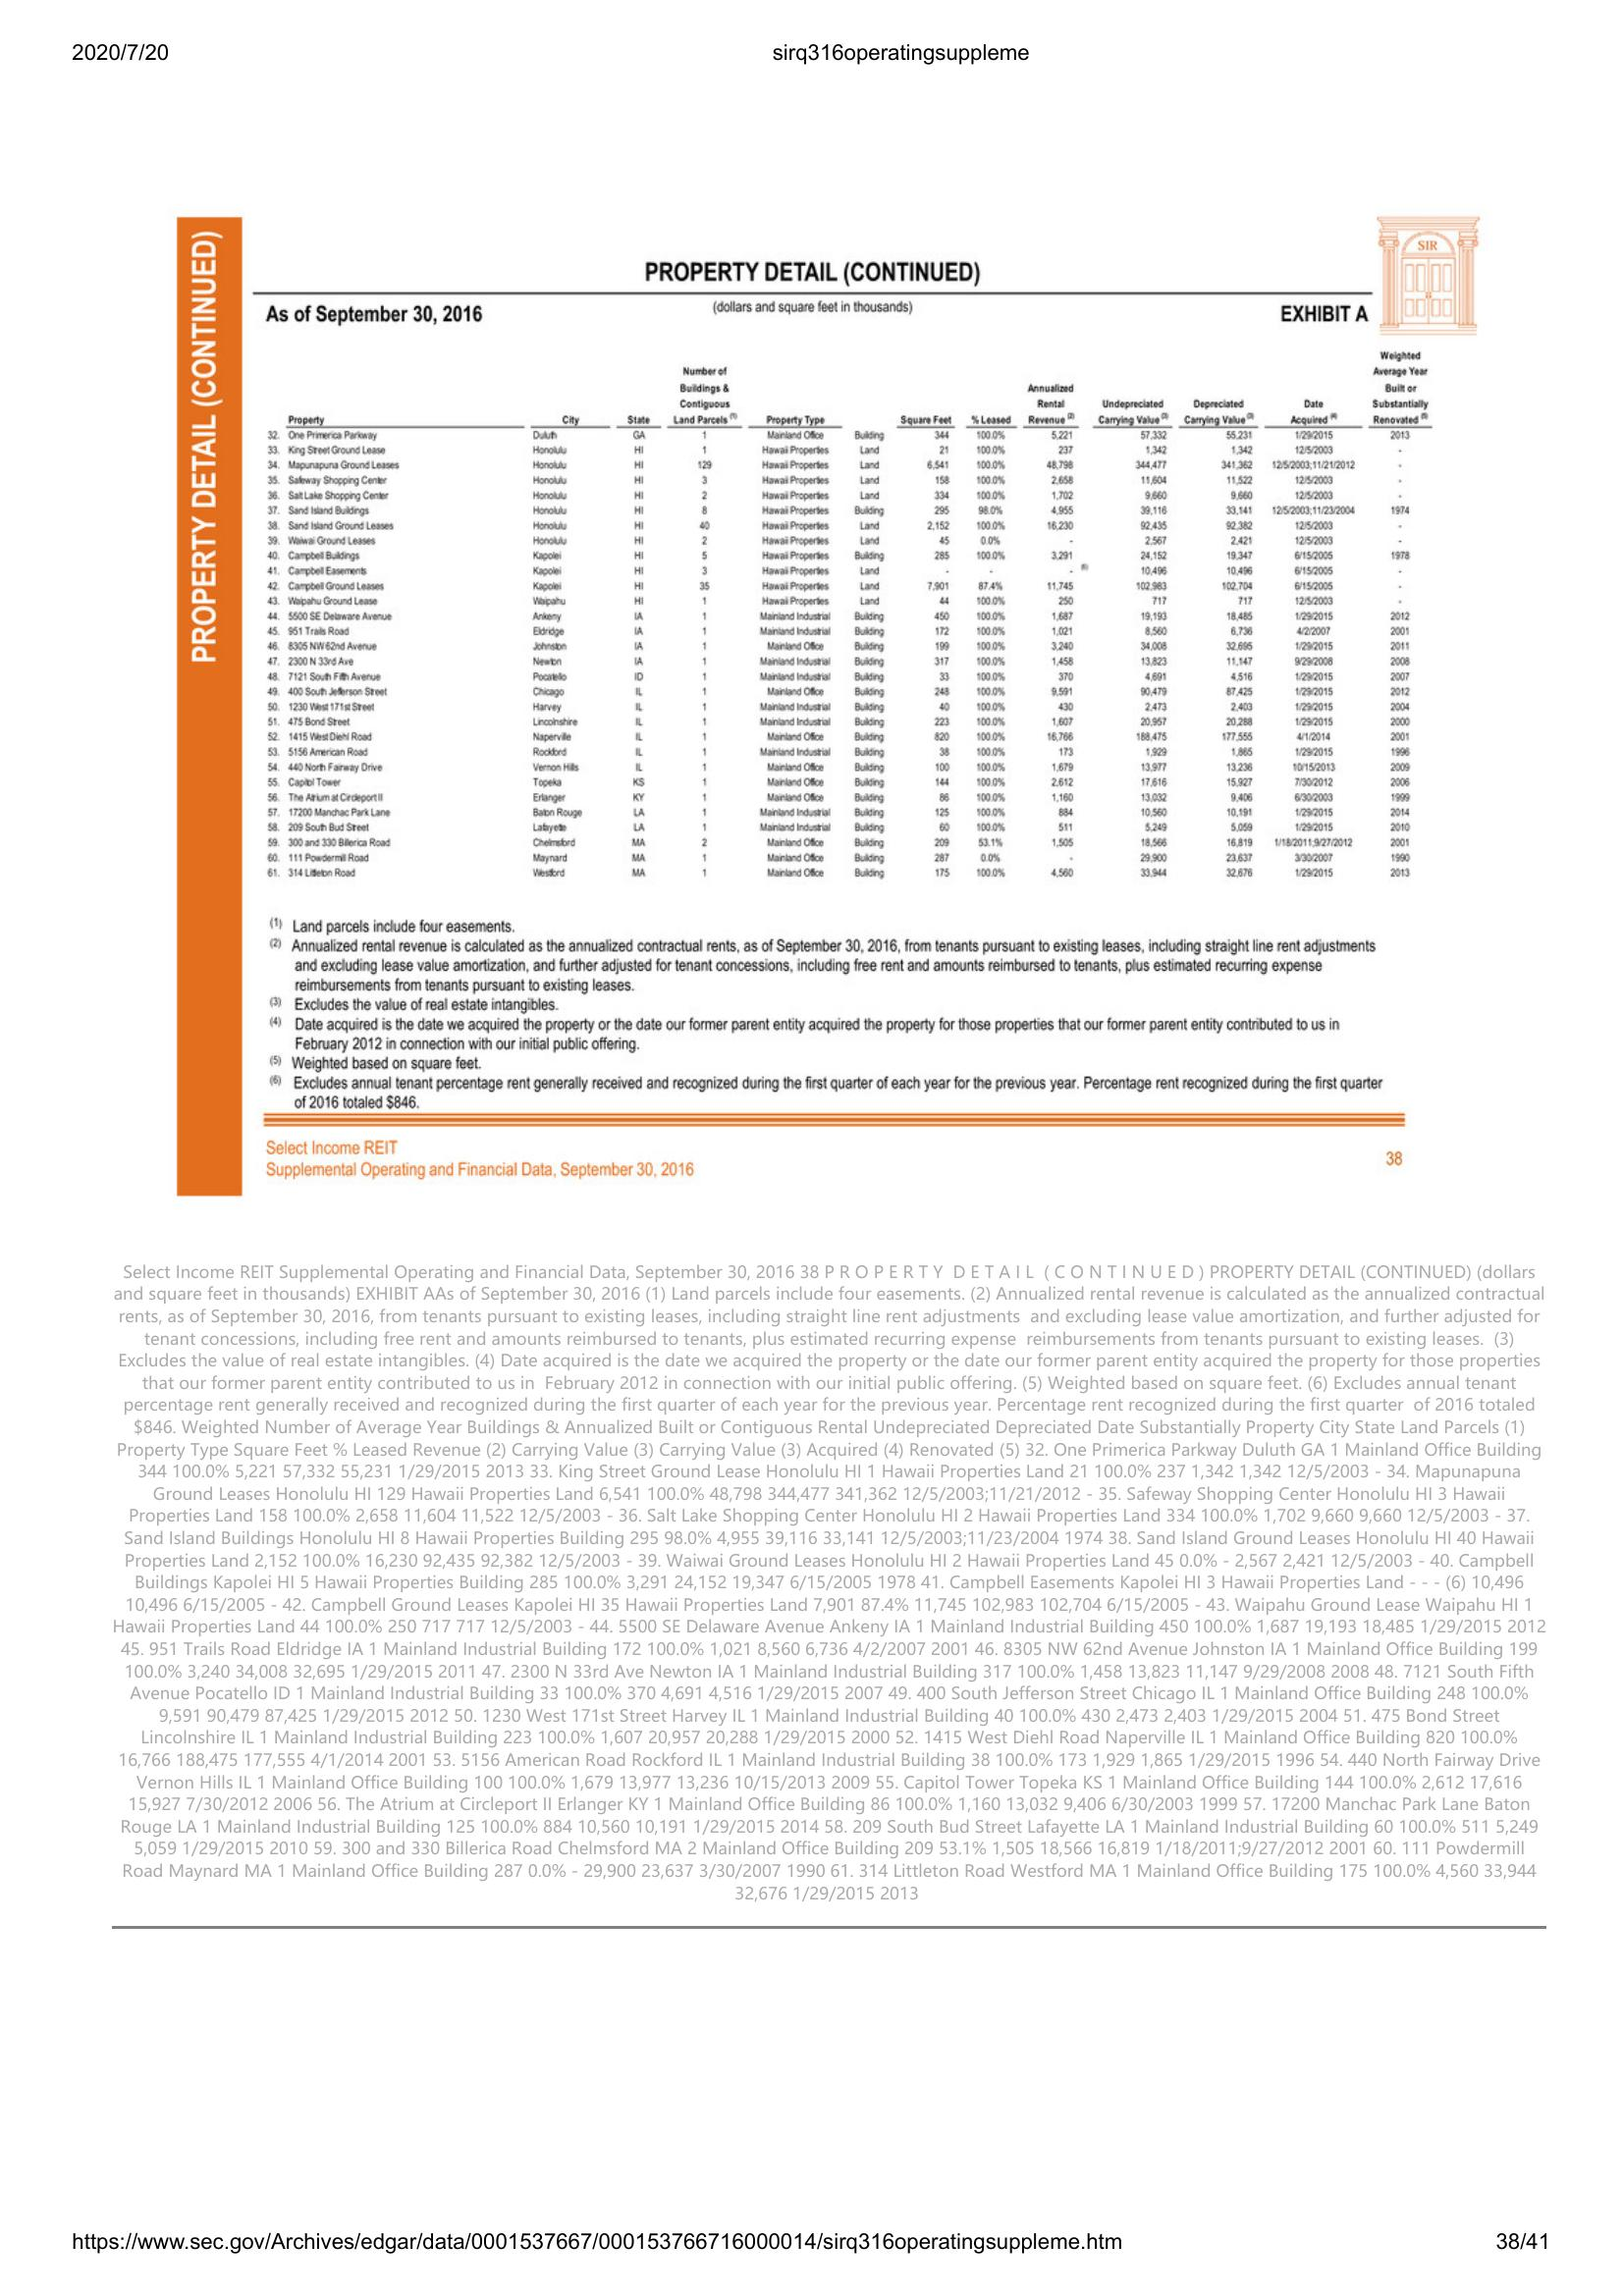table: (260, 344, 1444, 893)
